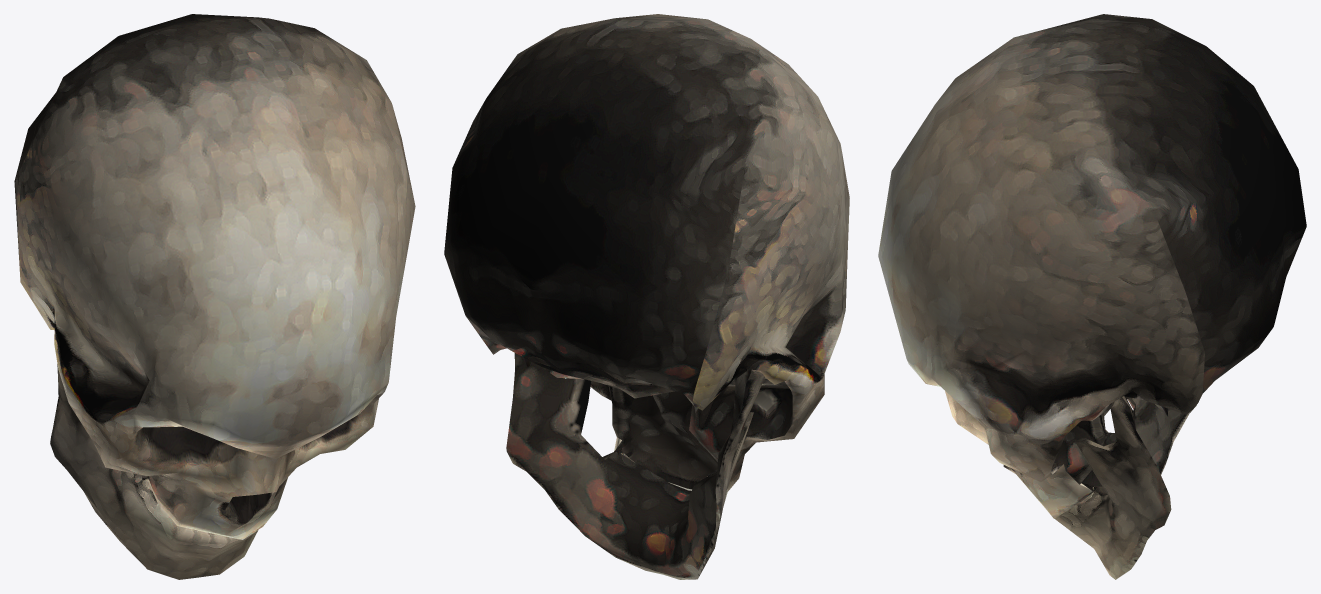
The model's file is Skull.FBX.
3 views of the same model, side by side, from view 1: azimuth 30°, elevation 25°; view 2: azimuth 150°, elevation 25°; view 3: azimuth 270°, elevation 25° (orthographic). The views are drawn at different scales.
Visible parts, largest first — view 1: Skull; view 2: Skull; view 3: Skull.
Part boxes in pixels (left/top/right/bottom): Skull: left=14, top=14, right=415, bottom=579; Skull: left=444, top=14, right=849, bottom=579; Skull: left=878, top=14, right=1306, bottom=579.
Bounding box in the file's own units: 17.47 × 27.39 × 19.9.
1 material, 1 textured.
